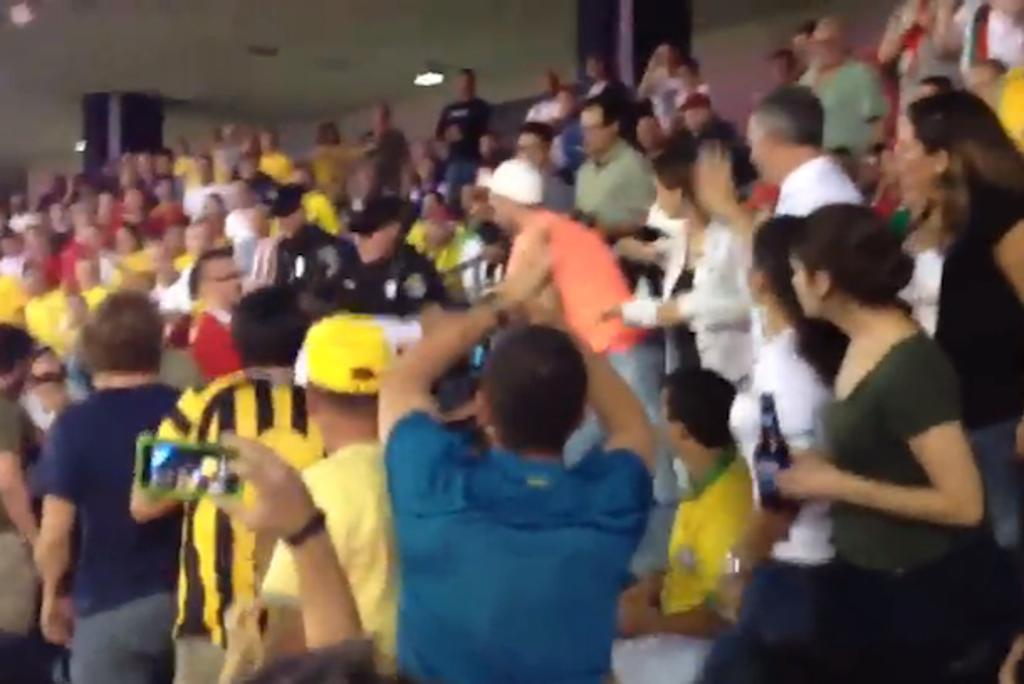face: (791, 256, 829, 318), (899, 130, 933, 191), (656, 407, 687, 455), (692, 162, 726, 205), (207, 263, 242, 303), (33, 358, 64, 403), (749, 126, 776, 177), (354, 226, 387, 262), (579, 112, 606, 149), (653, 177, 678, 215), (487, 195, 513, 229), (517, 140, 544, 170), (7, 356, 28, 394), (969, 70, 992, 99), (278, 210, 302, 234), (121, 269, 146, 292), (878, 157, 898, 184), (460, 188, 483, 210), (917, 89, 938, 113), (186, 229, 207, 252), (813, 35, 833, 59), (61, 301, 81, 323), (353, 169, 373, 190), (237, 184, 256, 206), (52, 208, 71, 230), (148, 250, 165, 274), (684, 111, 701, 133), (637, 123, 653, 146), (95, 197, 111, 220), (776, 61, 792, 80), (26, 271, 42, 290), (120, 194, 136, 213), (76, 264, 91, 282), (117, 233, 132, 251), (165, 233, 181, 249), (479, 138, 493, 156), (795, 39, 808, 57), (422, 198, 435, 216), (458, 79, 471, 96), (27, 236, 40, 252), (3, 241, 16, 257), (585, 61, 598, 76), (295, 172, 308, 187), (371, 108, 383, 124), (139, 157, 150, 174), (239, 163, 253, 176), (156, 157, 167, 173), (544, 81, 557, 94), (325, 127, 338, 140), (204, 201, 216, 215), (11, 199, 25, 211), (413, 144, 424, 159), (260, 137, 272, 150), (420, 162, 431, 176), (196, 160, 207, 173), (222, 126, 233, 137), (58, 180, 67, 193), (242, 139, 251, 151), (73, 180, 82, 192), (160, 185, 169, 196), (210, 130, 218, 142), (176, 144, 185, 154)
